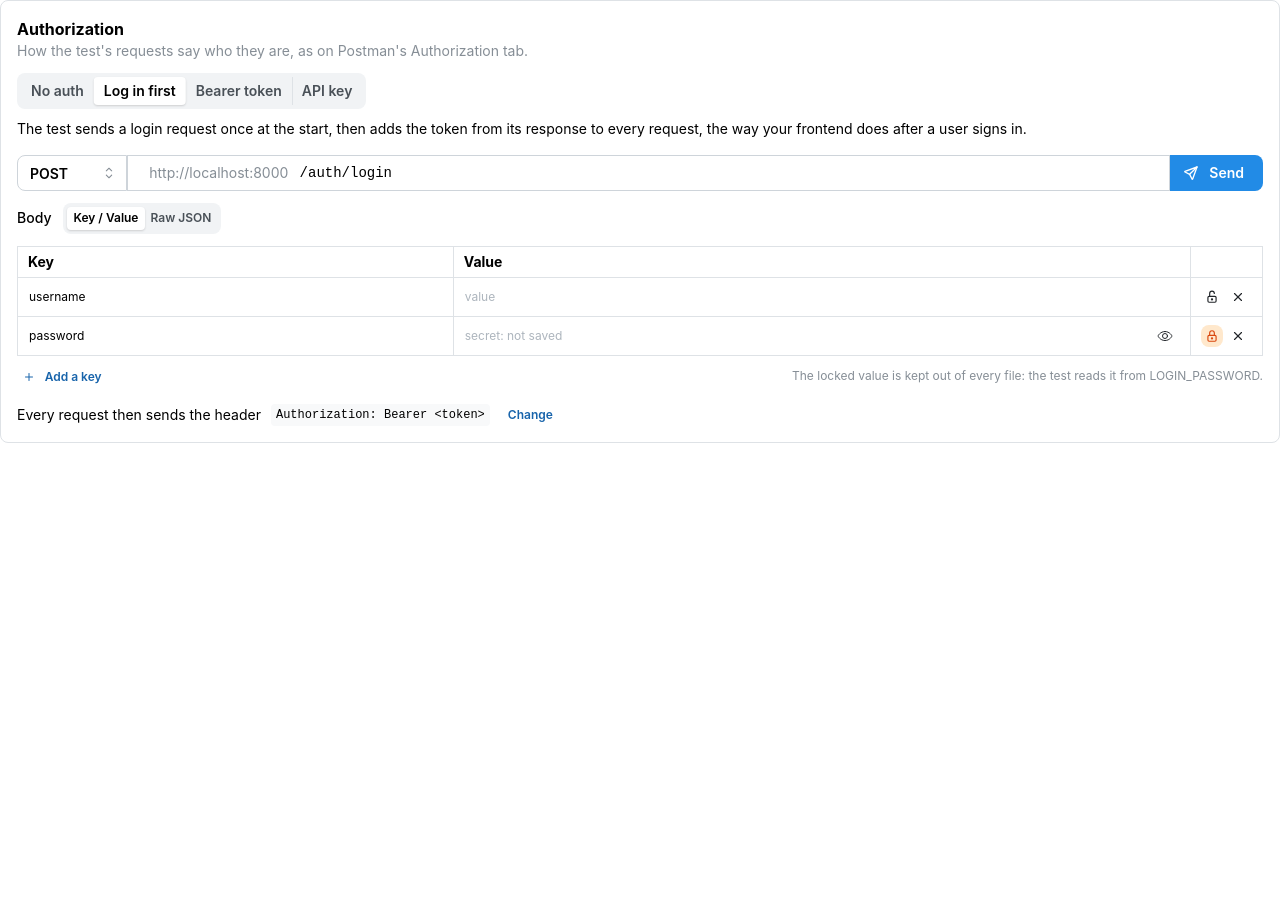
Test: the Authorization panel › marks the token it found, and takes another value when clicked
Later steps or results of the test are not shown.
Click the button "Send". click: (1217, 173)
box: [1170,155,1263,191]
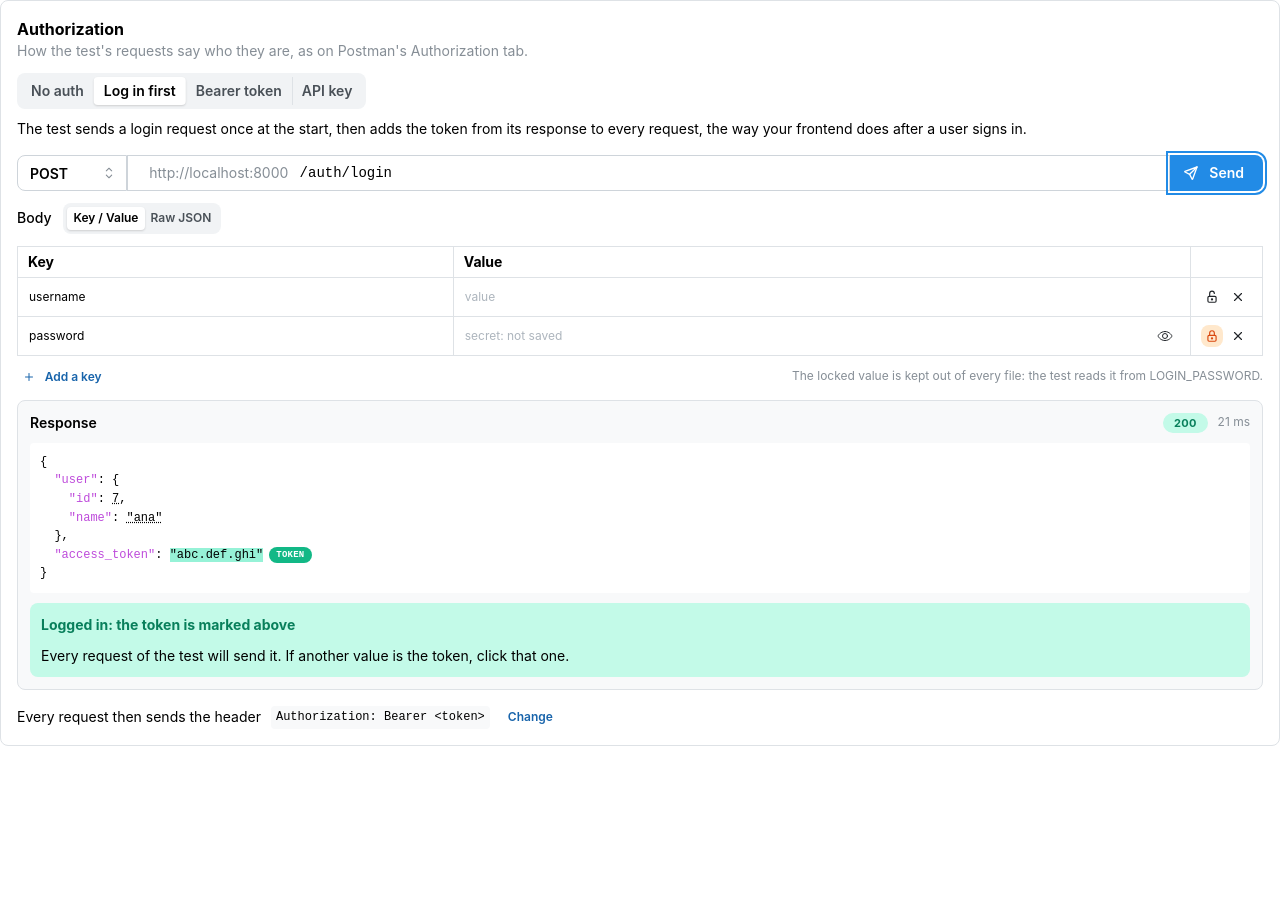
Expected: the text "Logged in: the token is marked above" is shown, [41,614,295,636]
Expected: the element named "token at access_token" is shown, [170,548,263,562]
